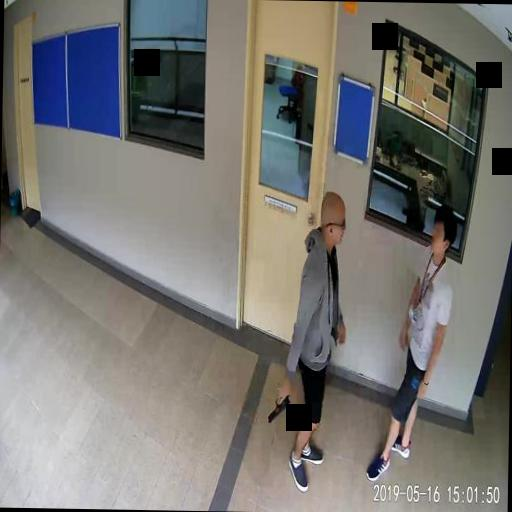Handgun: (266, 382, 289, 422)
